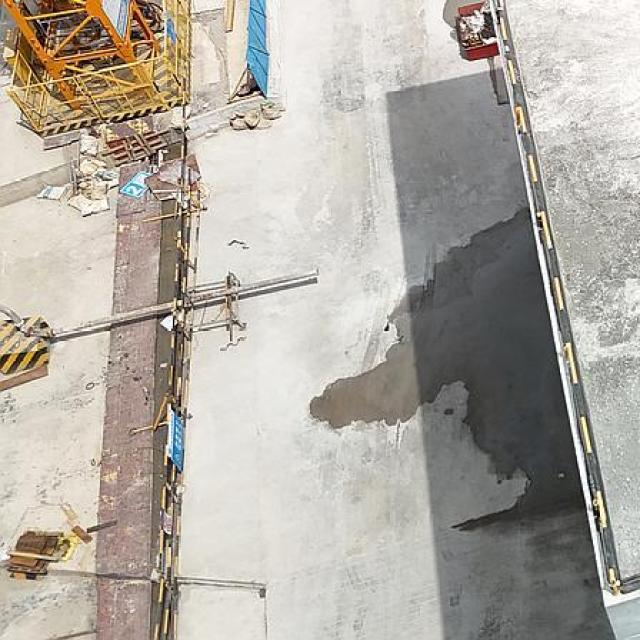edge_guardrail: (491, 0, 640, 597)
